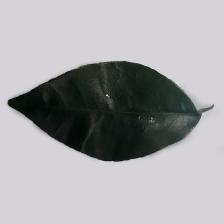healthy: (7, 60, 200, 162)
